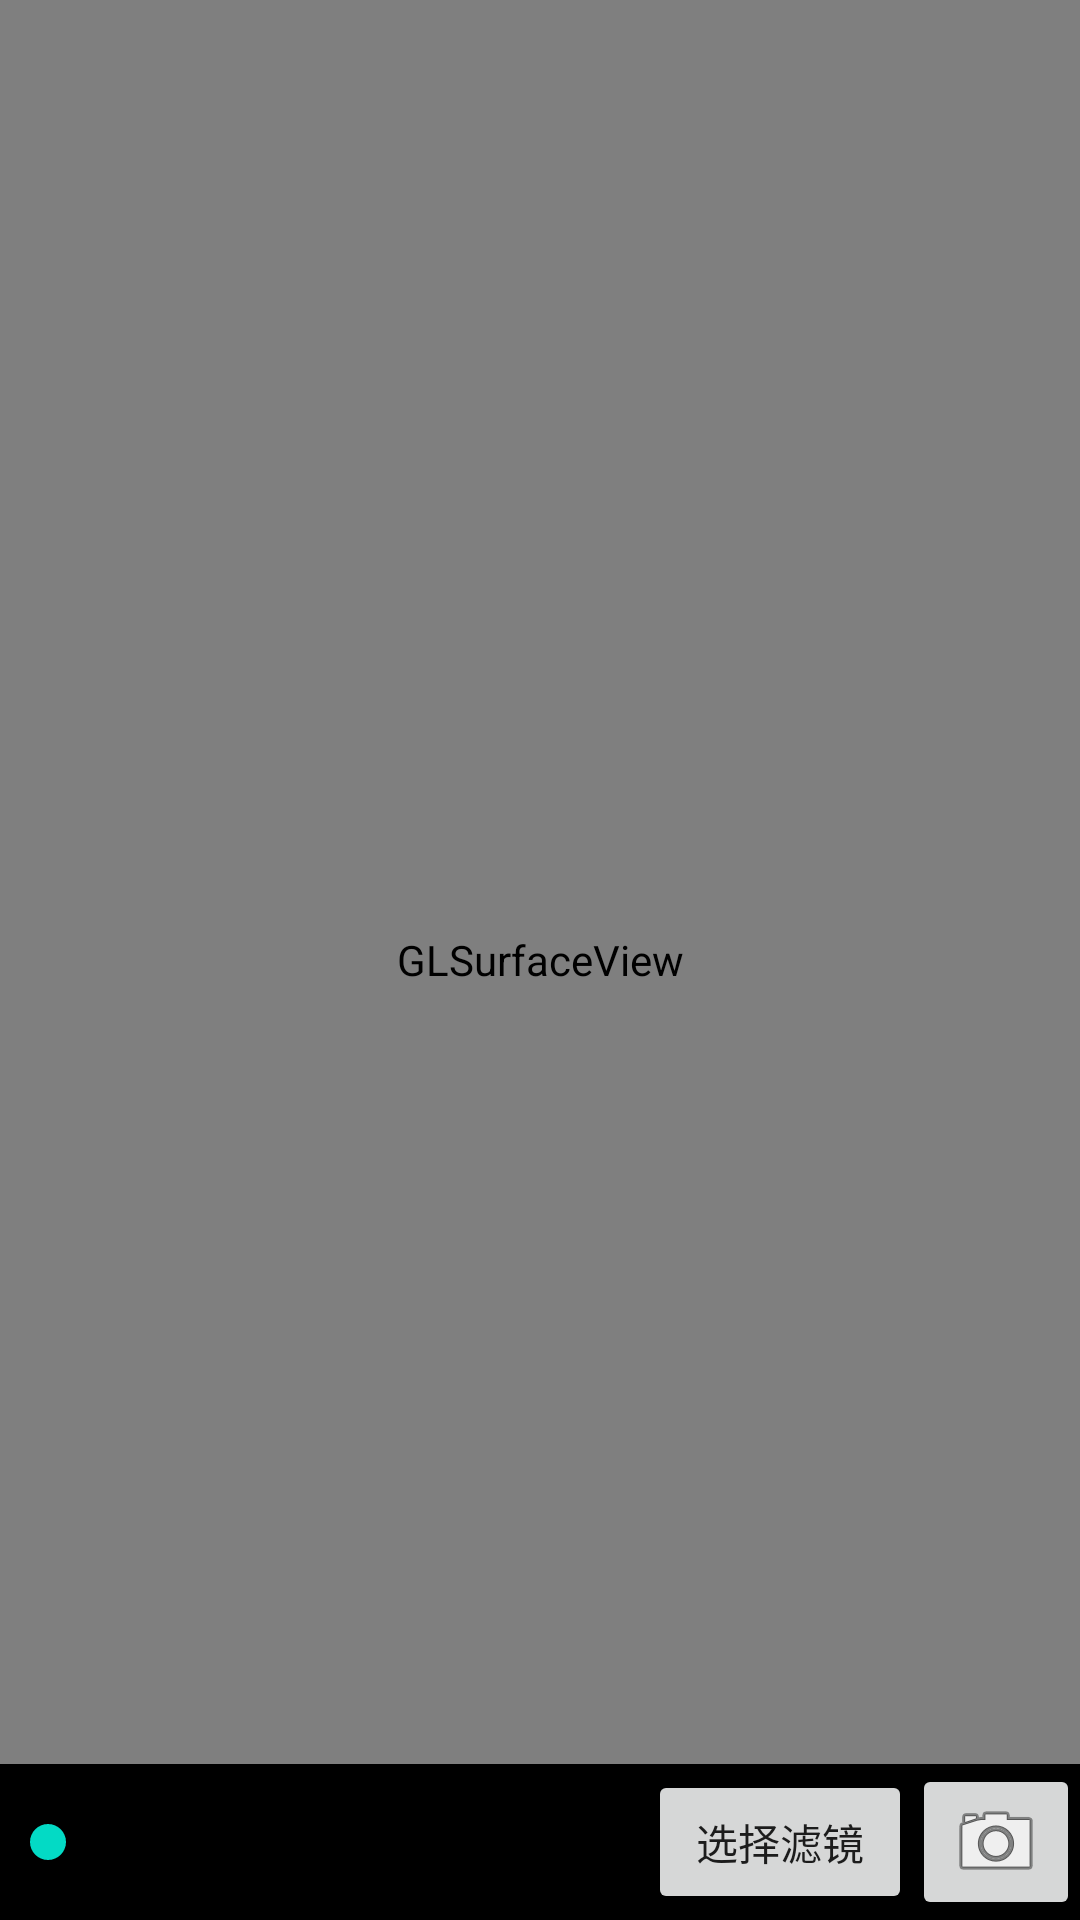

Icon bounding boxes for this 1080 x 1920 phone screenshot, format (x1, y1, x2, y2):
camera: (924, 1782, 1068, 1902)
